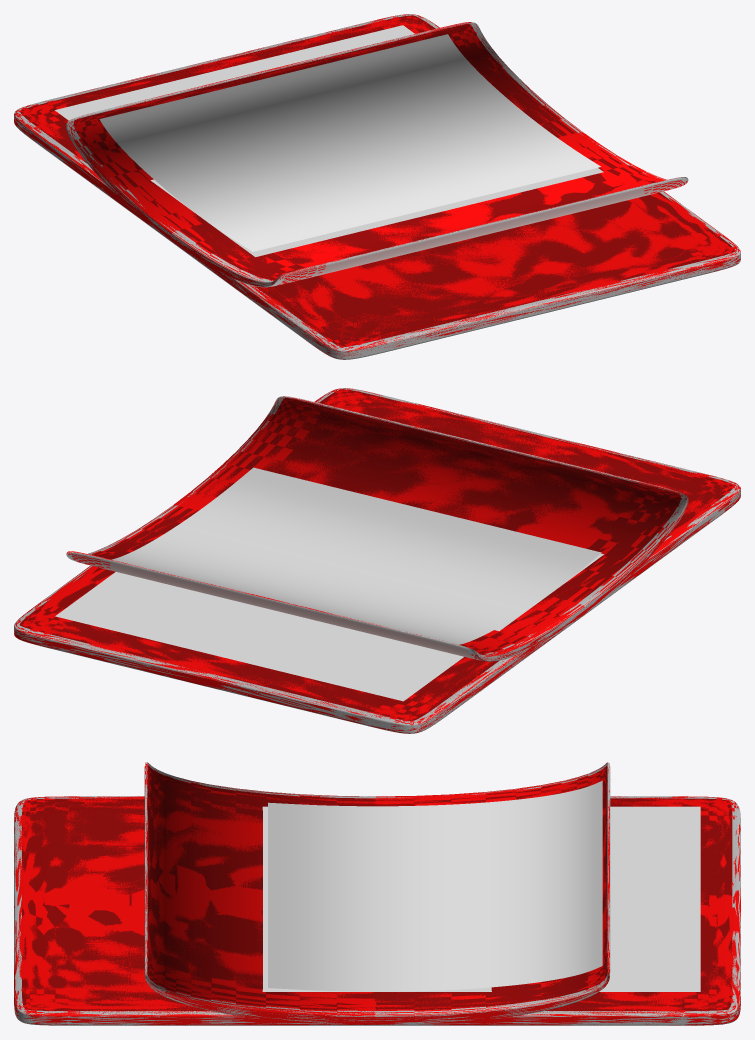
File: Card.fbx
3 renders of one model, top to bottom at view 1: azimuth 30°, elevation 25°; view 2: azimuth 150°, elevation 25°; view 3: azimuth 270°, elevation 25°, orthographic. The views are drawn at different scales.
Parts seen in each view (by area): view 1: CurveOut_FaceSection, Cardform_Split, CardPrototype_Textured, FaceSection; view 2: CurveOut_FaceSection, Cardform_Split, FaceSection, CardPrototype_Textured; view 3: CurveOut_FaceSection, Cardform_Split, CardPrototype_Textured, FaceSection.
Part boxes in pixels (x1=…): CurveOut_FaceSection: x1=66, y1=22, x2=688, y2=287; Cardform_Split: x1=14, y1=14, x2=740, y2=359; CardPrototype_Textured: x1=14, y1=14, x2=740, y2=359; FaceSection: x1=55, y1=25, x2=603, y2=257; CurveOut_FaceSection: x1=66, y1=396, x2=688, y2=661; Cardform_Split: x1=14, y1=388, x2=740, y2=733; FaceSection: x1=55, y1=553, x2=603, y2=701; CardPrototype_Textured: x1=14, y1=388, x2=740, y2=733; CurveOut_FaceSection: x1=144, y1=762, x2=610, y2=1024; Cardform_Split: x1=14, y1=796, x2=740, y2=1025; CardPrototype_Textured: x1=14, y1=796, x2=740, y2=1025; FaceSection: x1=262, y1=806, x2=700, y2=991.
Bounding box in the file's own units: 1 × 0.1074 × 1.4.
